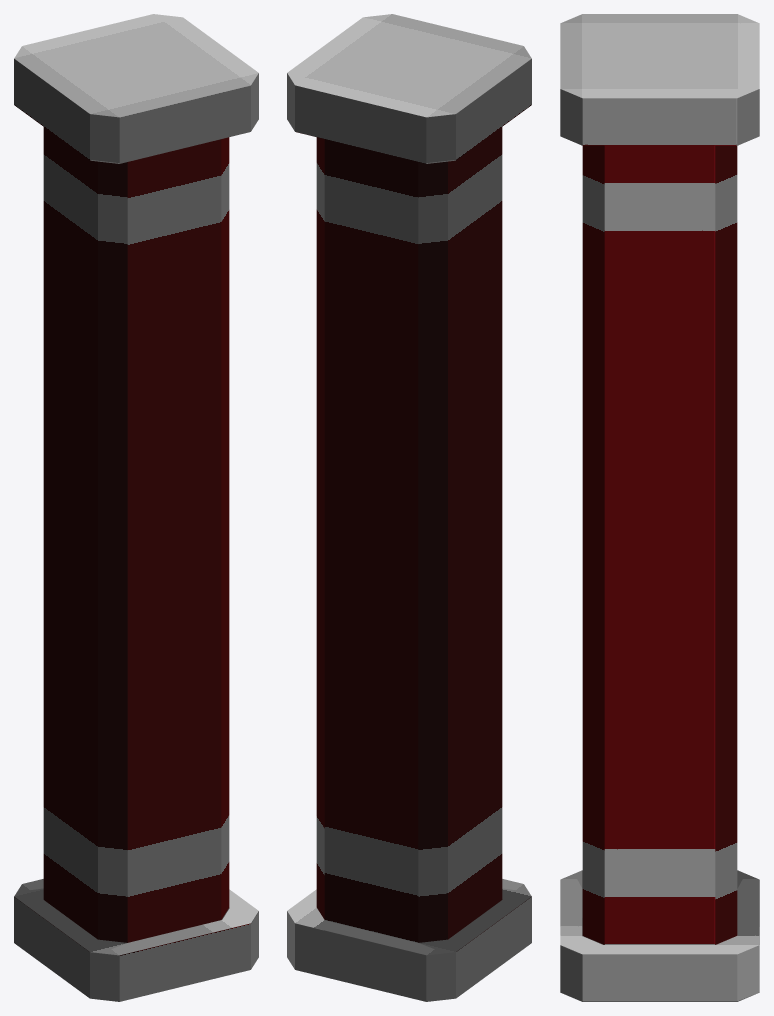
File: pillar_687x03.obj
The picture shows the model from 3 angles, left to right: view 1: azimuth 30°, elevation 25°; view 2: azimuth 150°, elevation 25°; view 3: azimuth 270°, elevation 25°; orthographic projection. The views are drawn at different scales.
Visible parts, largest first — view 1: Pillar; view 2: Pillar; view 3: Pillar.
Boxes of the visible parts, x1,y1,x2,y2 form: Pillar: [14, 14, 258, 1001]; Pillar: [287, 14, 531, 1001]; Pillar: [560, 14, 759, 1001].
Bounding box in the file's own units: 1.01 × 5.07 × 1.01.
